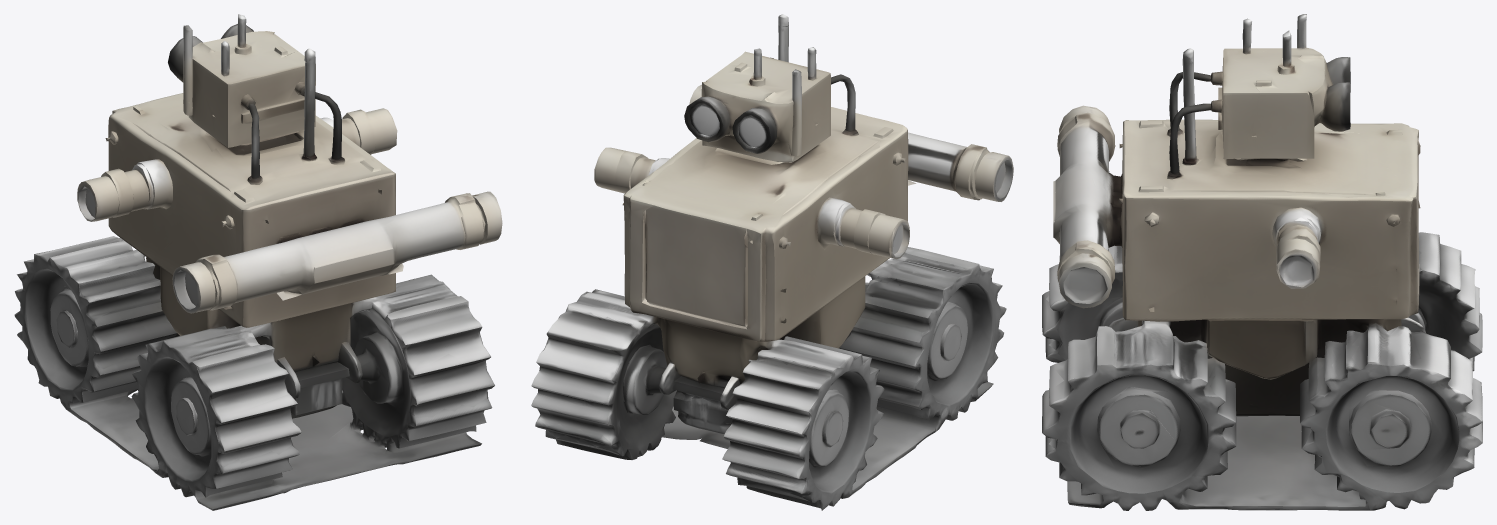
File: droid_cargo.glb
3 views of the same model, side by side, from view 1: azimuth 30°, elevation 25°; view 2: azimuth 150°, elevation 25°; view 3: azimuth 270°, elevation 25° (orthographic). The views are drawn at different scales.
Parts seen in each view (by area): view 1: model; view 2: model; view 3: model.
Part boxes in pixels (x1,y1,x2,y2): model: (14,14,502,510); model: (531,14,1013,510); model: (1042,14,1482,510).
Bounding box in the file's own units: 0.6998 × 0.85 × 0.8267.
1 material, 1 textured.
